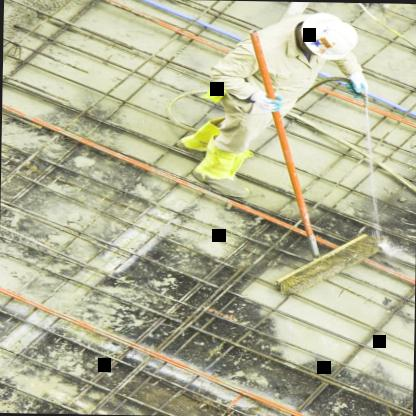helmet: (290, 11, 361, 61)
